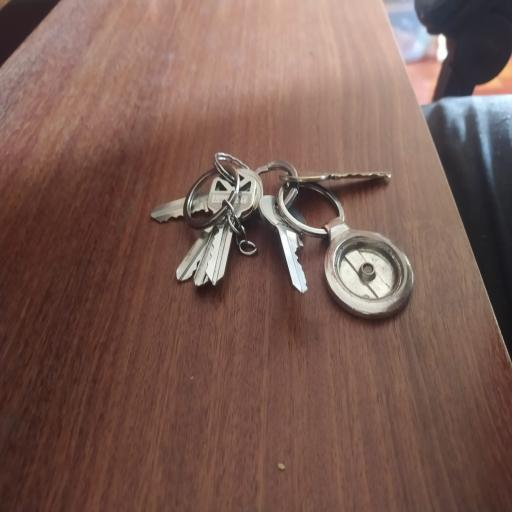Llaves: (144, 142, 421, 334)
